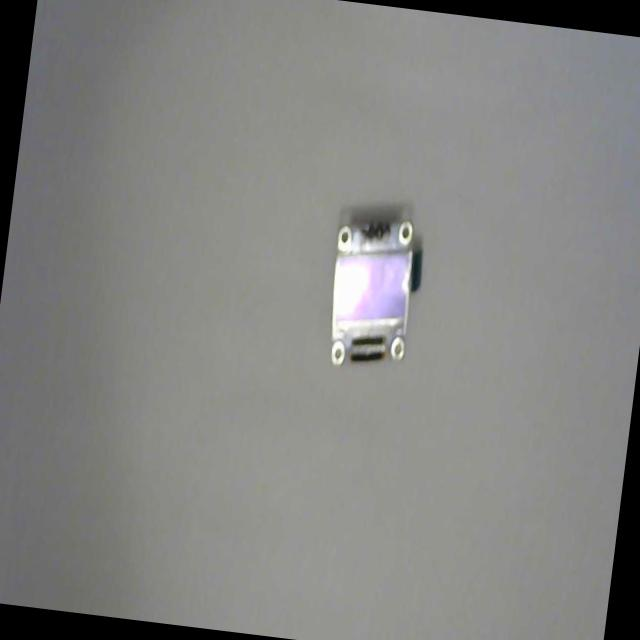oled: (320, 200, 435, 376)
